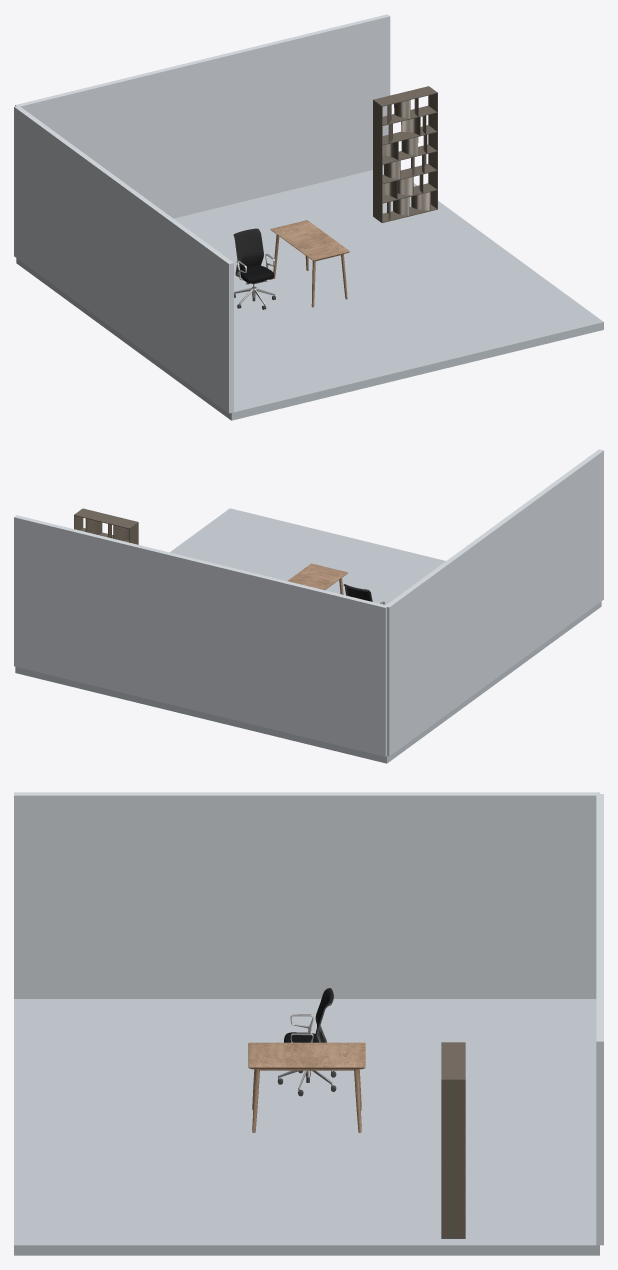
File: stage1.glb
3 views of the same model, one above another, from view 1: azimuth 30°, elevation 25°; view 2: azimuth 150°, elevation 25°; view 3: azimuth 270°, elevation 25° (orthographic). The views are drawn at different scales.
Parts seen in each view (by area): view 1: Floor, wall_back, wall_left, raw_model.002, raw_model, raw_model.001; view 2: wall_back, wall_left, Floor, raw_model.002, raw_model; view 3: Floor, wall_left, raw_model.002, raw_model, wall_back, raw_model.001.
Part boxes in pixels (<box>): Floor: <box>16,167,603,420</box>; wall_back: <box>15,14,390,218</box>; wall_left: <box>14,105,233,413</box>; raw_model.002: <box>373,86,437,222</box>; raw_model: <box>270,220,349,307</box>; raw_model.001: <box>233,228,275,309</box>; wall_back: <box>14,515,387,756</box>; wall_left: <box>386,449,603,756</box>; Floor: <box>15,508,601,763</box>; raw_model.002: <box>74,508,138,544</box>; raw_model: <box>287,563,347,594</box>; Floor: <box>14,999,599,1255</box>; wall_left: <box>14,792,599,998</box>; raw_model.002: <box>441,1042,465,1238</box>; raw_model: <box>248,1042,365,1132</box>; wall_back: <box>596,794,603,1245</box>; raw_model.001: <box>277,988,336,1096</box>.
Size of the model in its own units: 6.04 by 2.42 by 6.04.
Materials: 5 (3 with a texture image).
